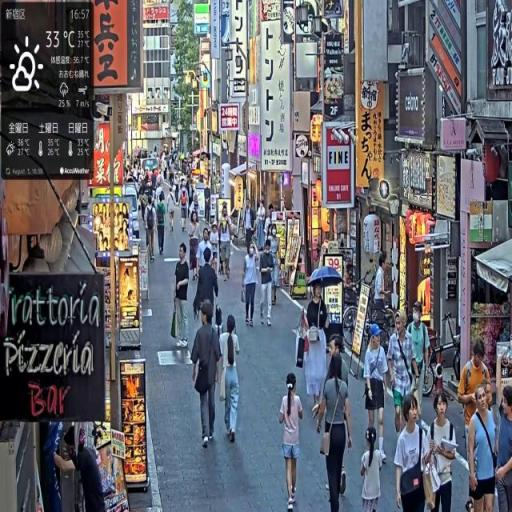person: (315, 350, 354, 512), (393, 390, 438, 512), (192, 300, 225, 448), (300, 280, 332, 418), (388, 312, 420, 440), (363, 323, 392, 462), (468, 382, 499, 512), (426, 390, 459, 512), (279, 372, 304, 512), (219, 313, 242, 444), (359, 420, 385, 512), (408, 304, 433, 399), (494, 384, 512, 512), (195, 246, 221, 330), (258, 237, 277, 330), (174, 245, 191, 344), (243, 242, 261, 329), (219, 208, 235, 284), (189, 216, 203, 284), (145, 198, 159, 263), (156, 193, 168, 258), (180, 187, 190, 234)
